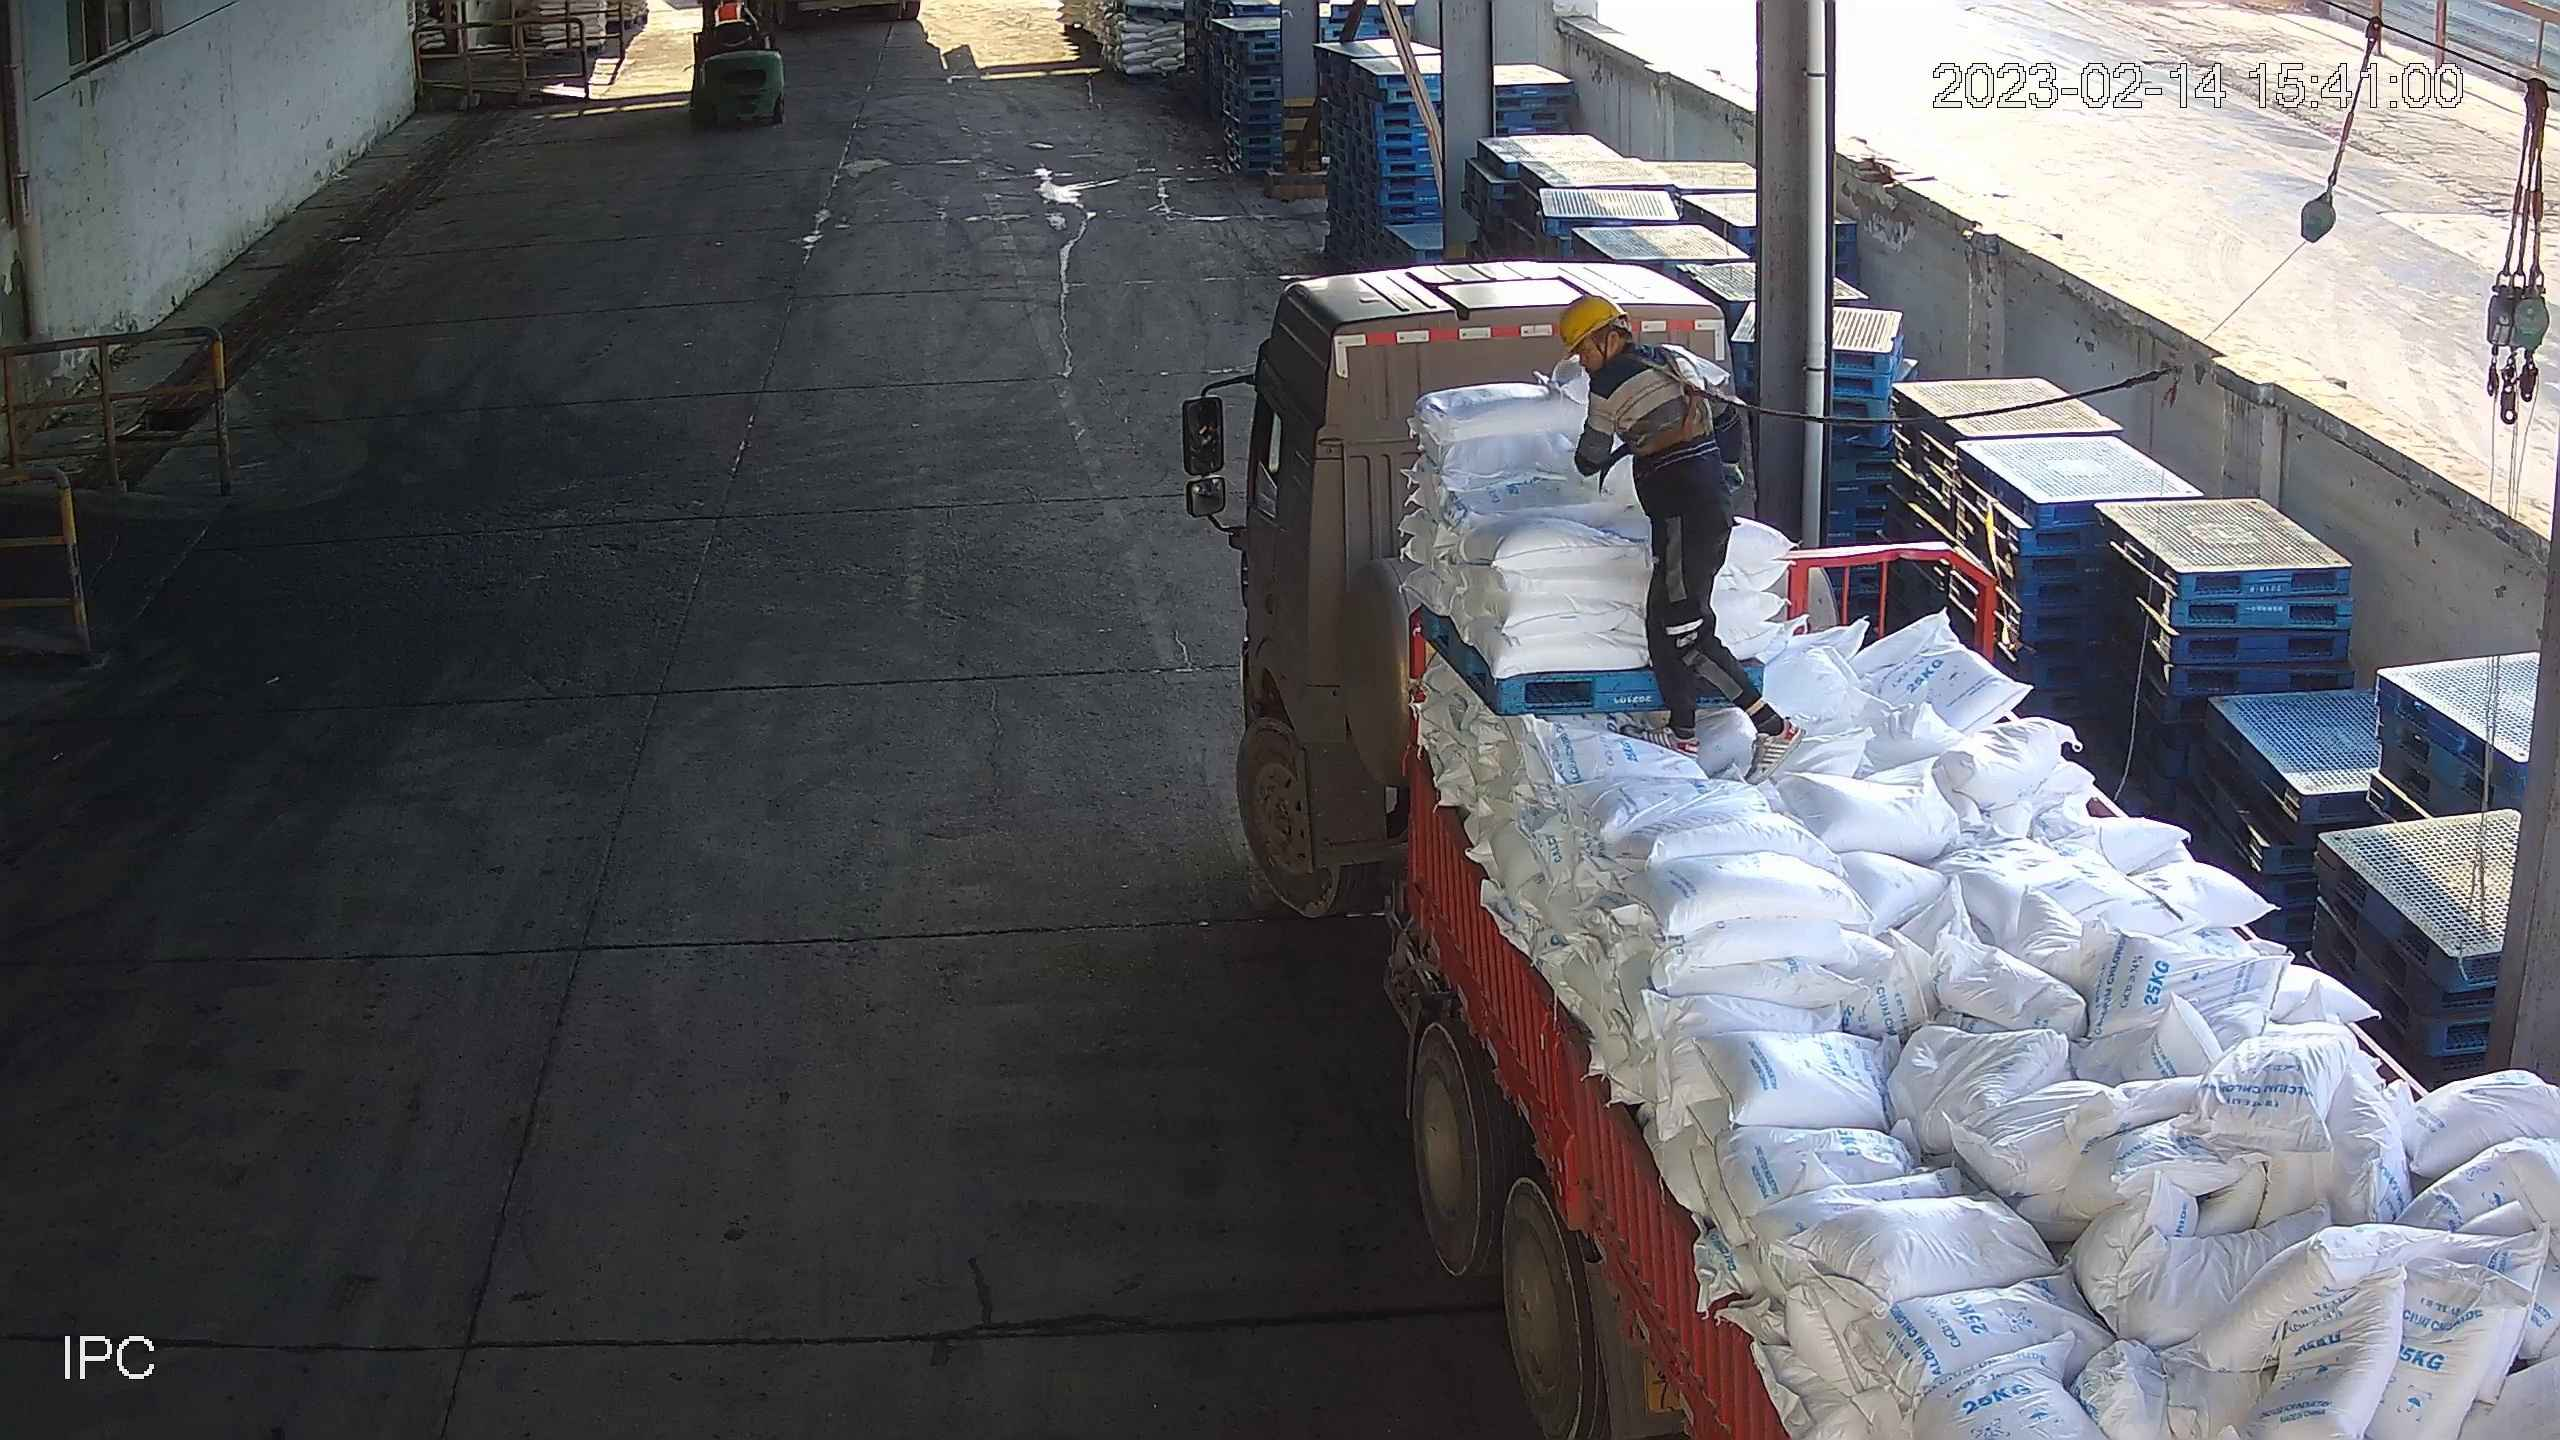belt: (1635, 357, 1753, 460)
head: (1563, 293, 1697, 402)
helmet: (1548, 288, 1623, 344)
people: (1553, 283, 1792, 772)
truck: (1186, 255, 2560, 1440)
